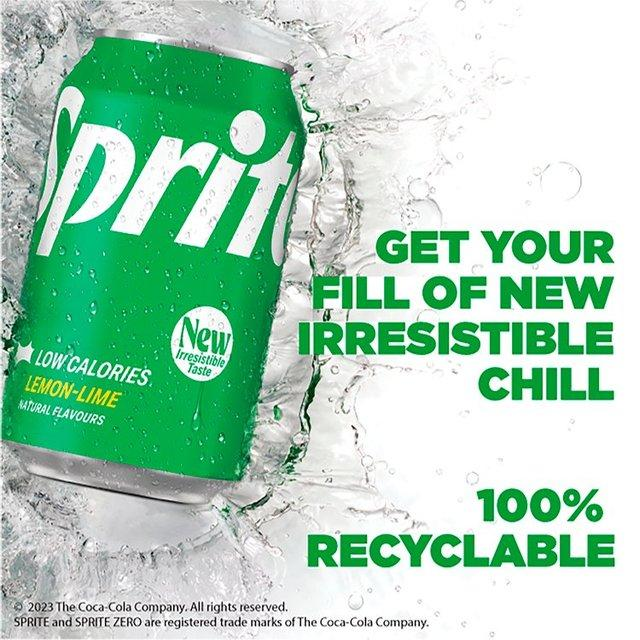sprite: (12, 16, 291, 523)
